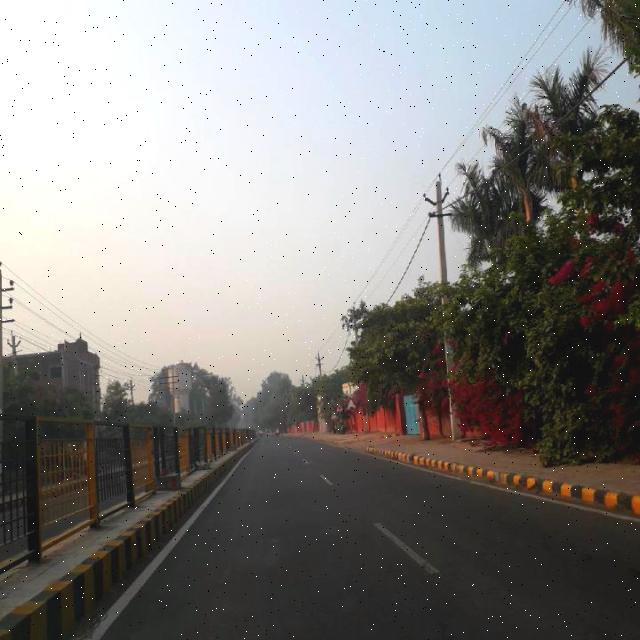D44: (365, 517, 447, 576)
